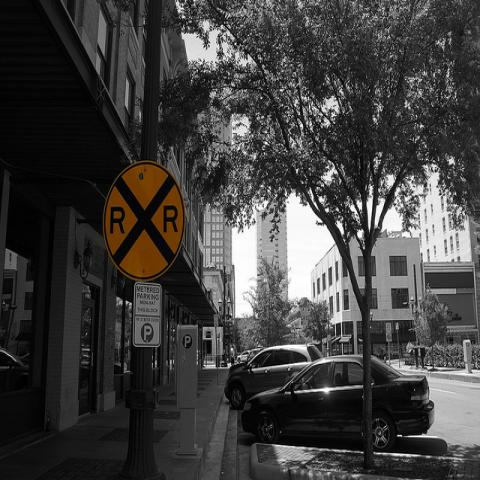car: (241, 355, 435, 450), (224, 343, 324, 411), (228, 348, 262, 373), (237, 351, 250, 362)
